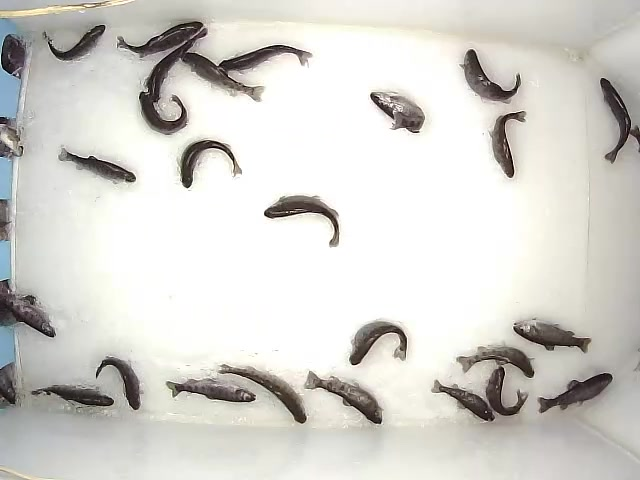fish: (217, 364, 307, 425), (144, 26, 210, 102), (263, 193, 341, 249), (181, 52, 266, 103), (457, 48, 522, 105), (176, 138, 243, 189), (116, 21, 204, 59), (537, 372, 614, 414), (512, 317, 593, 356), (455, 341, 535, 379), (57, 147, 136, 185), (219, 44, 314, 75), (348, 318, 408, 367), (599, 77, 632, 165), (430, 379, 496, 422), (487, 110, 527, 180), (1, 290, 57, 339), (95, 356, 144, 411), (42, 24, 106, 63), (369, 91, 425, 134), (165, 378, 258, 403), (138, 91, 189, 136), (485, 366, 529, 417), (30, 384, 115, 407)
